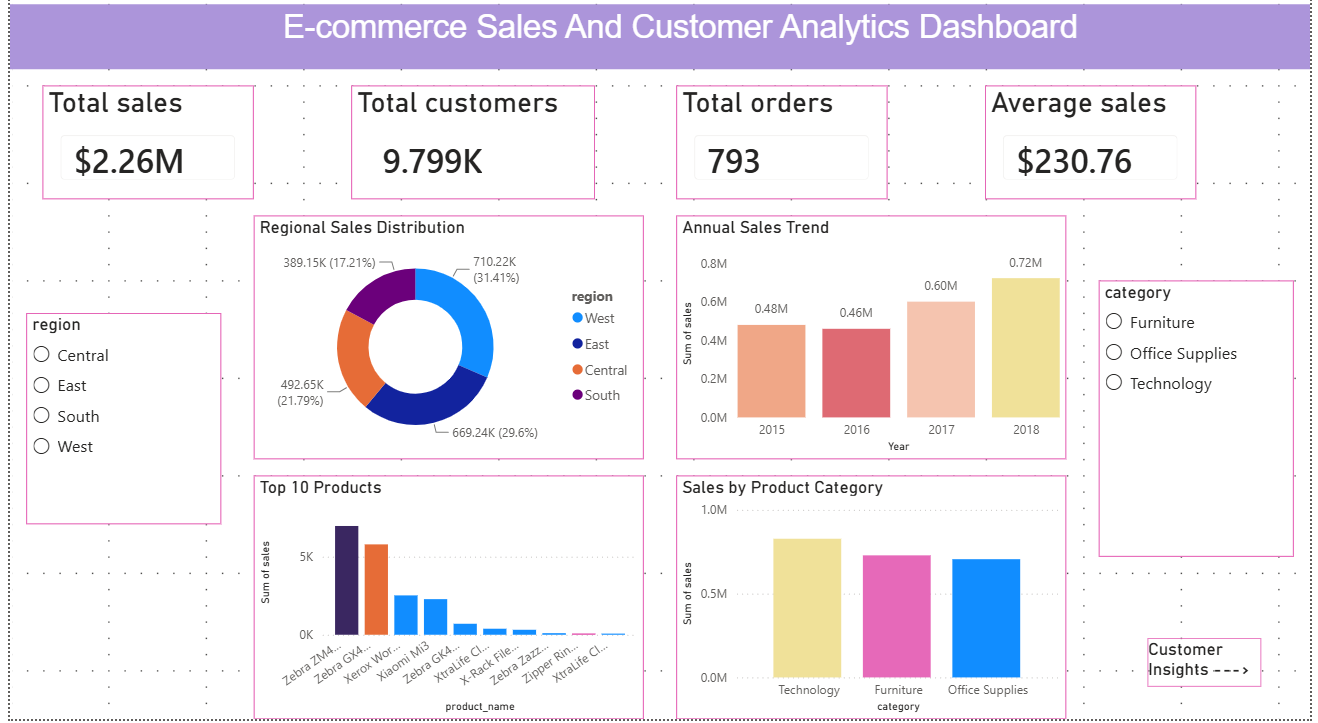

What the dashboard file says about the page in this screenshot:
{"tool":"powerbi","page":{"name":"Page 1","canvas":[1280,720],"ordinal":0},"visuals":[{"type":"cardVisual","title":"Total sales","fields":{"Data":["Sum(public orders.sales)"]},"box":[32,96,208,112],"z":0},{"type":"cardVisual","title":"Total customers","fields":{"Data":["CountNonNull(public orders.order_id)"]},"box":[336,96,240,112],"z":1000},{"type":"cardVisual","title":"Total orders","fields":{"Data":["Count(public orders.customer_id)"]},"box":[656,96,208,112],"z":2000},{"type":"clusteredColumnChart","title":"Sales by Product Category","fields":{"Category":["public orders.category"],"Y":["Sum(public orders.sales)"]},"box":[656,480,384,240],"z":3000},{"type":"donutChart","title":"Regional Sales Distribution","fields":{"Category":["public orders.region"],"Y":["Sum(public orders.sales)"]},"box":[240,224,384,240],"z":4000},{"type":"lineStackedColumnComboChart","title":"Annual Sales Trend","fields":{"Category":["public orders.order_date.Variation.Date Hierarchy.Year","public orders.order_date.Variation.Date Hierarchy.Quarter","public orders.order_date.Variation.Date Hierarchy.Month","public orders.order_date.Variation.Date Hierarchy.Day"],"Y":["Sum(public orders.sales)"]},"box":[656,224,384,240],"z":5000},{"type":"clusteredColumnChart","title":"Top 10 Products","fields":{"Category":["public orders.product_name"],"Y":["Sum(public orders.sales)"]},"box":[240,480,384,240],"z":6000},{"type":"listSlicer","fields":{"Values":["public orders.region"]},"box":[16,320,192,208],"z":7000},{"type":"listSlicer","fields":{"Values":["public orders.category"]},"box":[1072,288,192,272],"z":8000},{"type":"textbox","box":[0,16,1280,64],"z":9000},{"type":"cardVisual","title":"Average sales","fields":{"Data":["Avg(public orders.sales)"]},"box":[960,96,208,112],"z":10000},{"type":"actionButton","title":"Customer Insights --->","box":[1120,640,112,48],"z":10001}]}

Visuals, with their boxes in screenshot pixels (x1, y1, x2, y2), scaled from the page's 1280x720 canvas onto the 1318x723 screenshot:
"Total sales" cardVisual: box(33, 96, 247, 209)
"Total customers" cardVisual: box(346, 96, 593, 209)
"Total orders" cardVisual: box(675, 96, 890, 209)
"Sales by Product Category" clusteredColumnChart: box(675, 482, 1071, 722)
"Regional Sales Distribution" donutChart: box(247, 225, 643, 466)
"Annual Sales Trend" lineStackedColumnComboChart: box(675, 225, 1071, 466)
"Top 10 Products" clusteredColumnChart: box(247, 482, 643, 722)
listSlicer - public orders.region: box(16, 321, 214, 530)
listSlicer - public orders.category: box(1104, 289, 1302, 562)
textbox: box(0, 16, 1317, 80)
"Average sales" cardVisual: box(989, 96, 1203, 209)
"Customer Insights --->" actionButton: box(1153, 643, 1269, 691)
